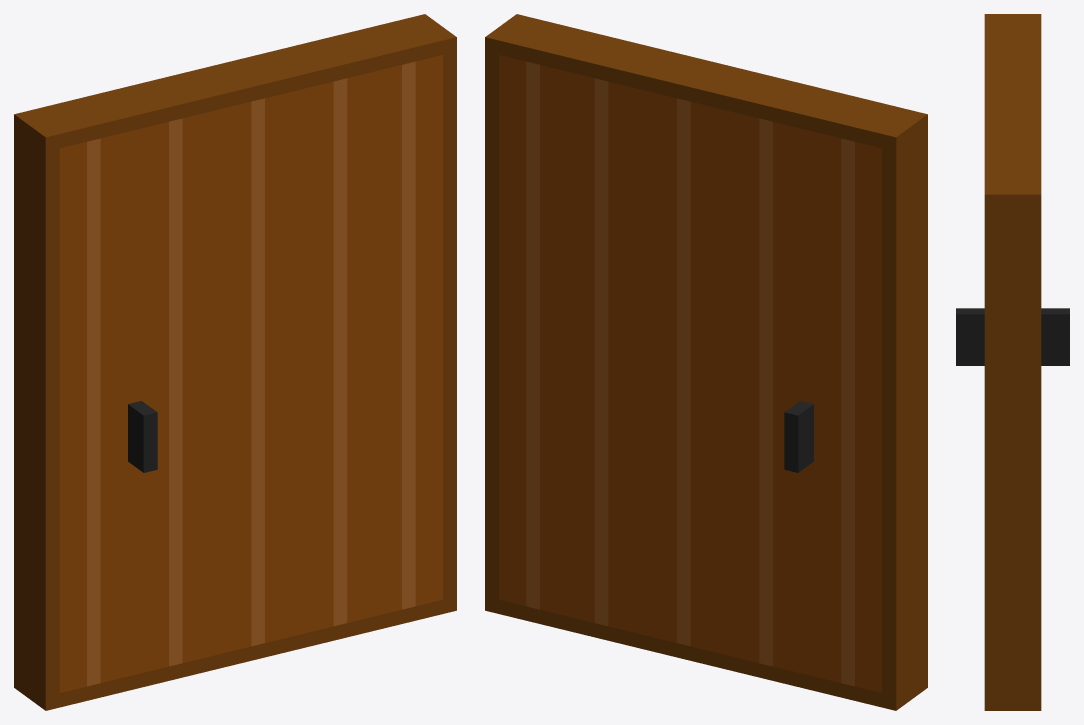
The model's file is wood door.obj.
3 views of the same model, side by side, from view 1: azimuth 30°, elevation 25°; view 2: azimuth 150°, elevation 25°; view 3: azimuth 270°, elevation 25° (orthographic). The views are drawn at different scales.
Parts seen in each view (by area): view 1: wood door; view 2: wood door; view 3: wood door.
Boxes of the visible parts, x1=… form: wood door: x1=14, y1=14, x2=456, y2=710; wood door: x1=485, y1=14, x2=927, y2=710; wood door: x1=956, y1=14, x2=1069, y2=710.
Bounding box in the file's own units: 30 × 40 × 8.
Materials: 1 (1 with a texture image).
